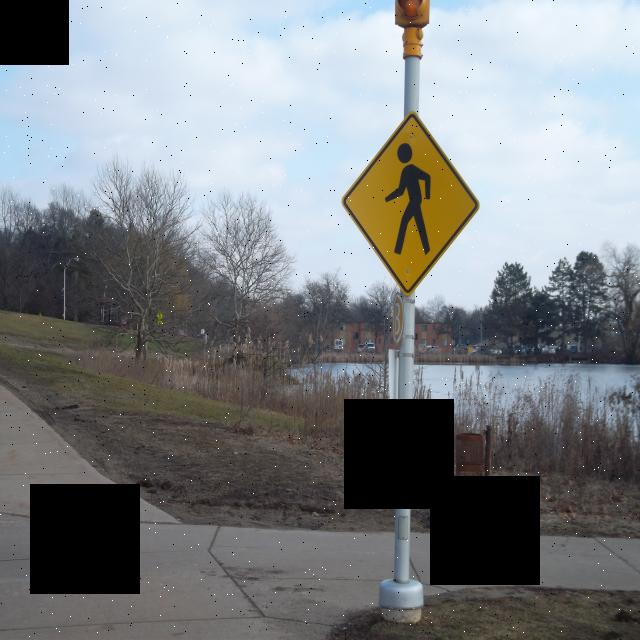warning: (340, 111, 480, 295)
